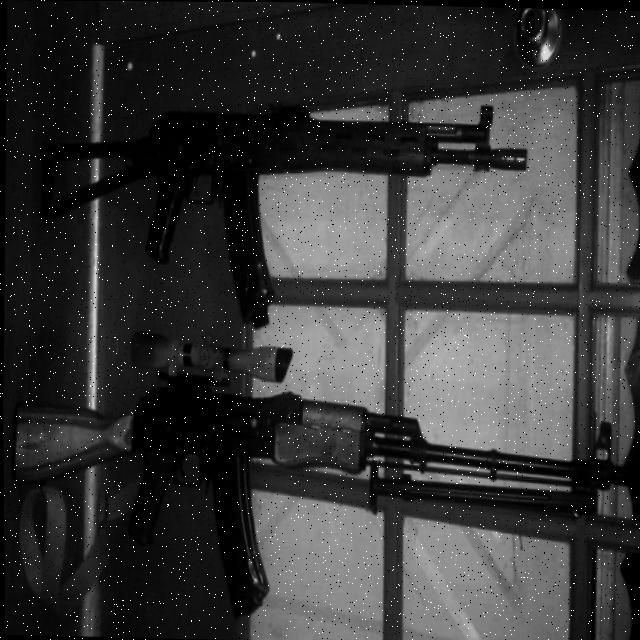firearm: (9, 331, 638, 630), (35, 93, 528, 336)
